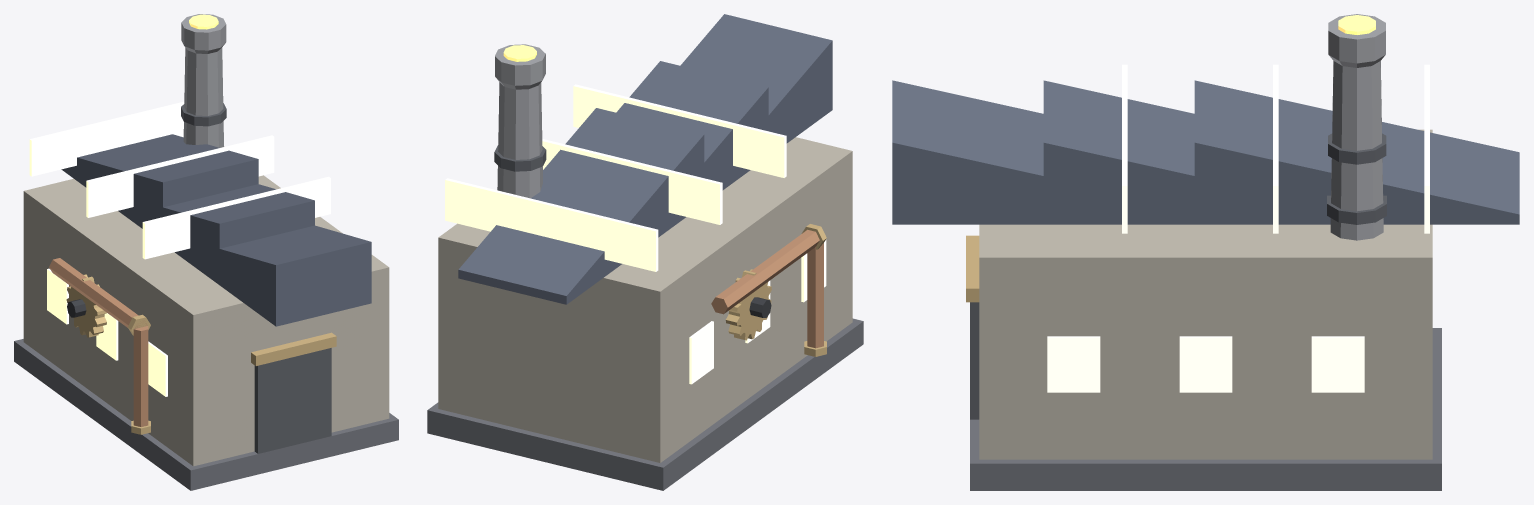
The model's file is workshop.glb.
3 views of the same model, side by side, from view 1: azimuth 30°, elevation 25°; view 2: azimuth 150°, elevation 25°; view 3: azimuth 270°, elevation 25° (orthographic). The views are drawn at different scales.
Parts seen in each view (by area): view 1: workshop; view 2: workshop; view 3: workshop.
Part boxes in pixels (left/top/right/bottom): workshop: left=14, top=14, right=398, bottom=490; workshop: left=427, top=14, right=863, bottom=490; workshop: left=892, top=14, right=1519, bottom=490.
Bounding box in the file's own units: 9.19 × 12.7 × 16.6.
